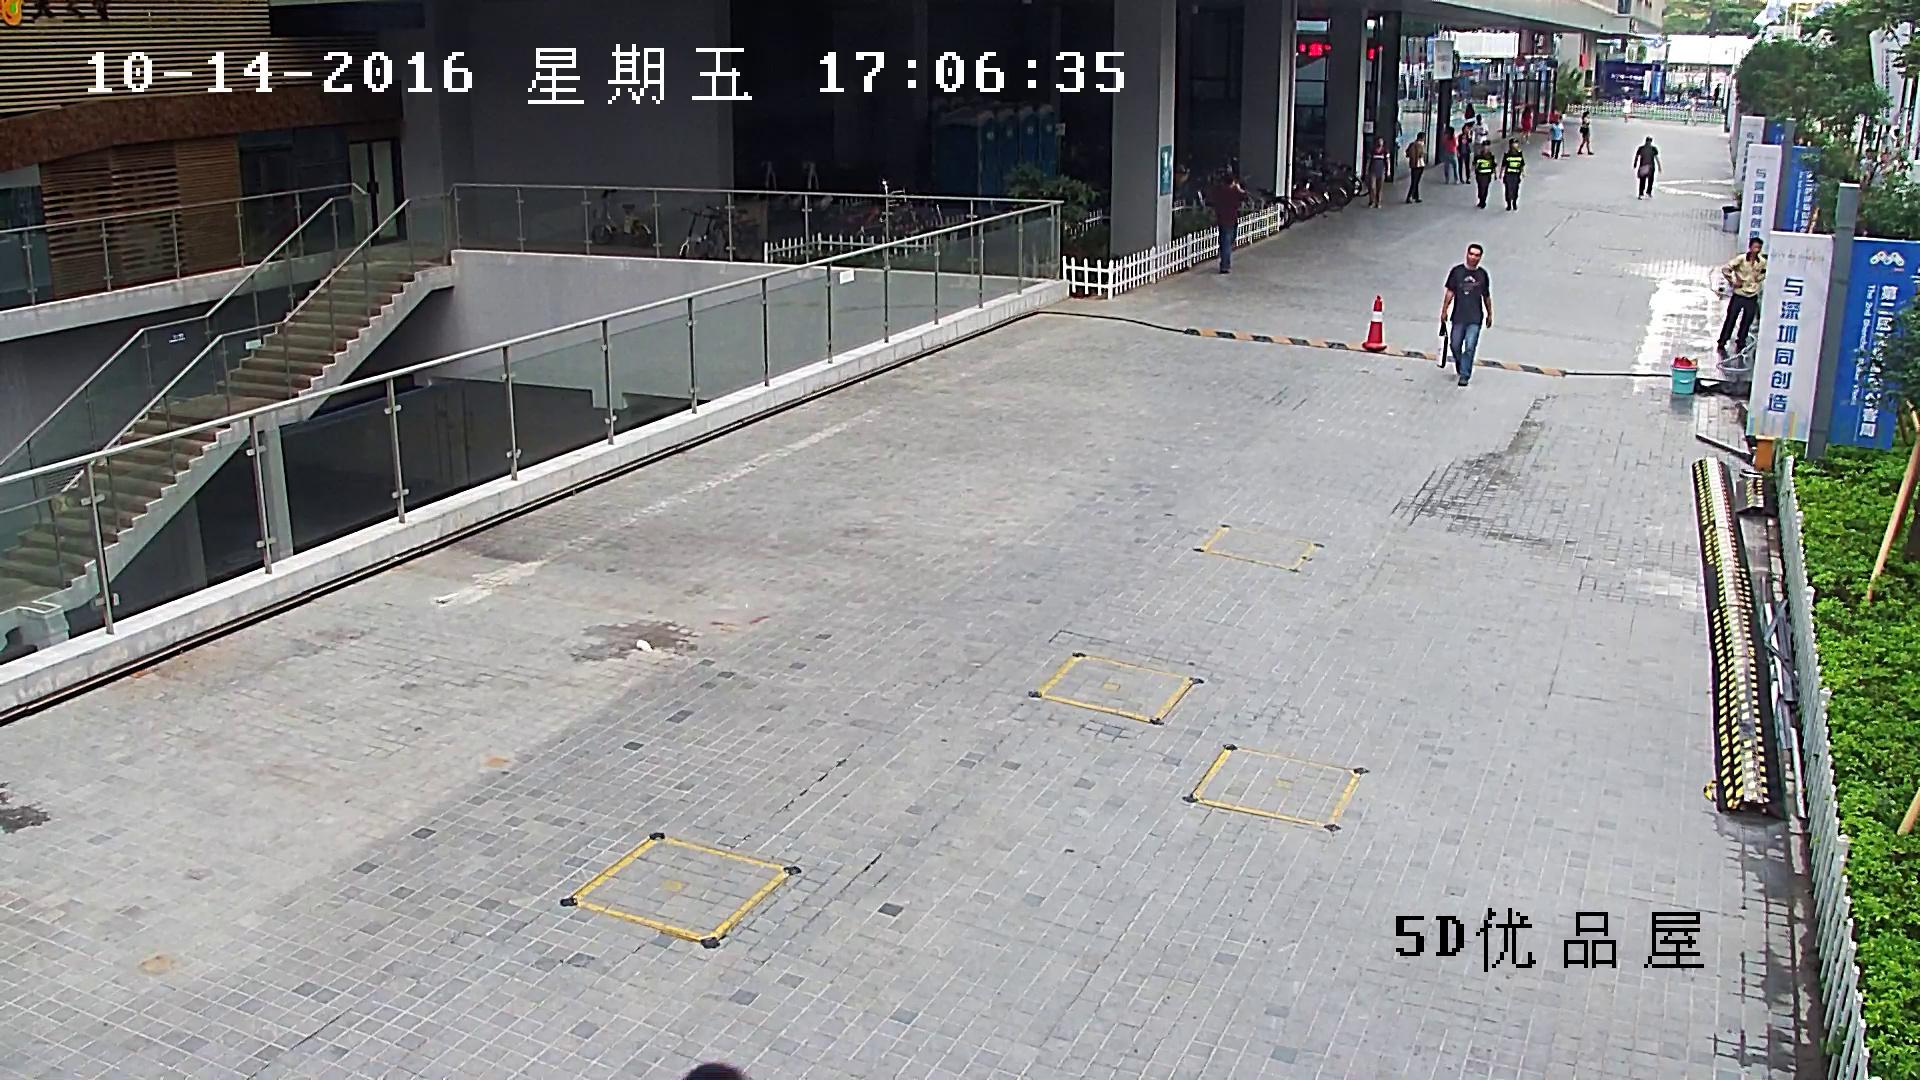person: (1437, 244, 1492, 385), (1716, 238, 1766, 358), (1214, 174, 1242, 273), (1633, 137, 1661, 200), (1367, 135, 1391, 209), (1500, 138, 1523, 211), (1473, 140, 1496, 209), (1406, 132, 1426, 202), (1542, 118, 1570, 160), (1441, 126, 1457, 184), (1576, 110, 1594, 154), (1458, 123, 1471, 182), (1547, 117, 1563, 160), (1685, 91, 1698, 126), (1473, 113, 1487, 142), (1520, 105, 1531, 143), (1623, 94, 1633, 123), (1465, 102, 1474, 120)
